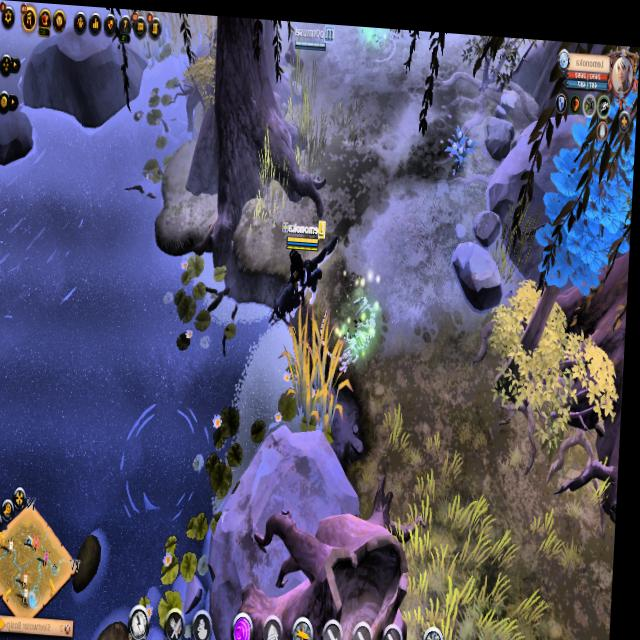fiber tier 4: (441, 123, 482, 177)
fish: (117, 385, 219, 540)
